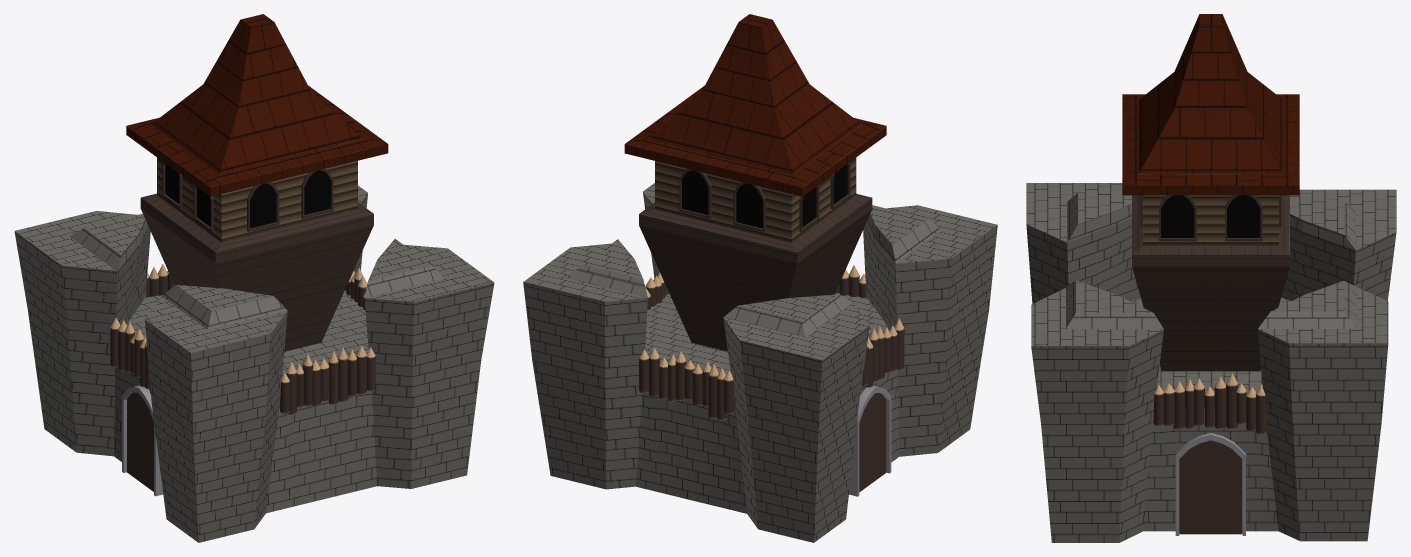
The model's file is Castle2.fbx.
3 views of the same model, side by side, from view 1: azimuth 30°, elevation 25°; view 2: azimuth 150°, elevation 25°; view 3: azimuth 270°, elevation 25° (orthographic). The views are drawn at different scales.
Visible parts, largest first — view 1: Cube.003; view 2: Cube.003; view 3: Cube.003.
Part boxes in pixels (x1,y1,x2,y2): Cube.003: (14,14,494,542); Cube.003: (523,14,997,542); Cube.003: (1026,14,1396,542).
Size of the model in its own units: 1022 by 1385 by 1017.
1 material, 1 textured.
